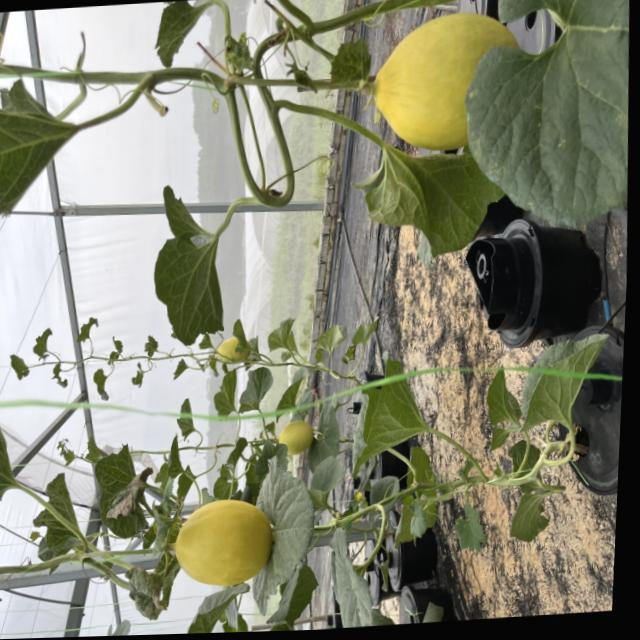CMV: (28, 468, 90, 573), (0, 404, 22, 509)
SLCV: (123, 558, 181, 623)
bacterial wilt: (91, 438, 157, 521)
downy mildew: (455, 0, 637, 229)
healthy: (359, 131, 503, 262), (147, 177, 232, 348), (247, 460, 319, 614), (348, 348, 431, 480), (519, 328, 614, 434), (326, 523, 396, 628), (0, 83, 62, 201), (395, 446, 452, 550), (504, 436, 558, 544), (138, 0, 209, 77), (182, 580, 250, 634)
